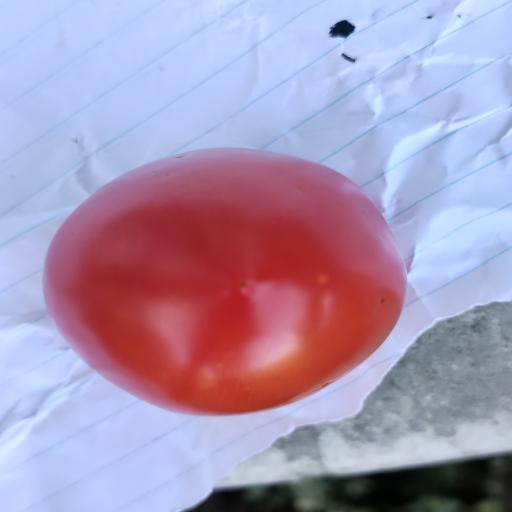ripe: (43, 149, 406, 414)
